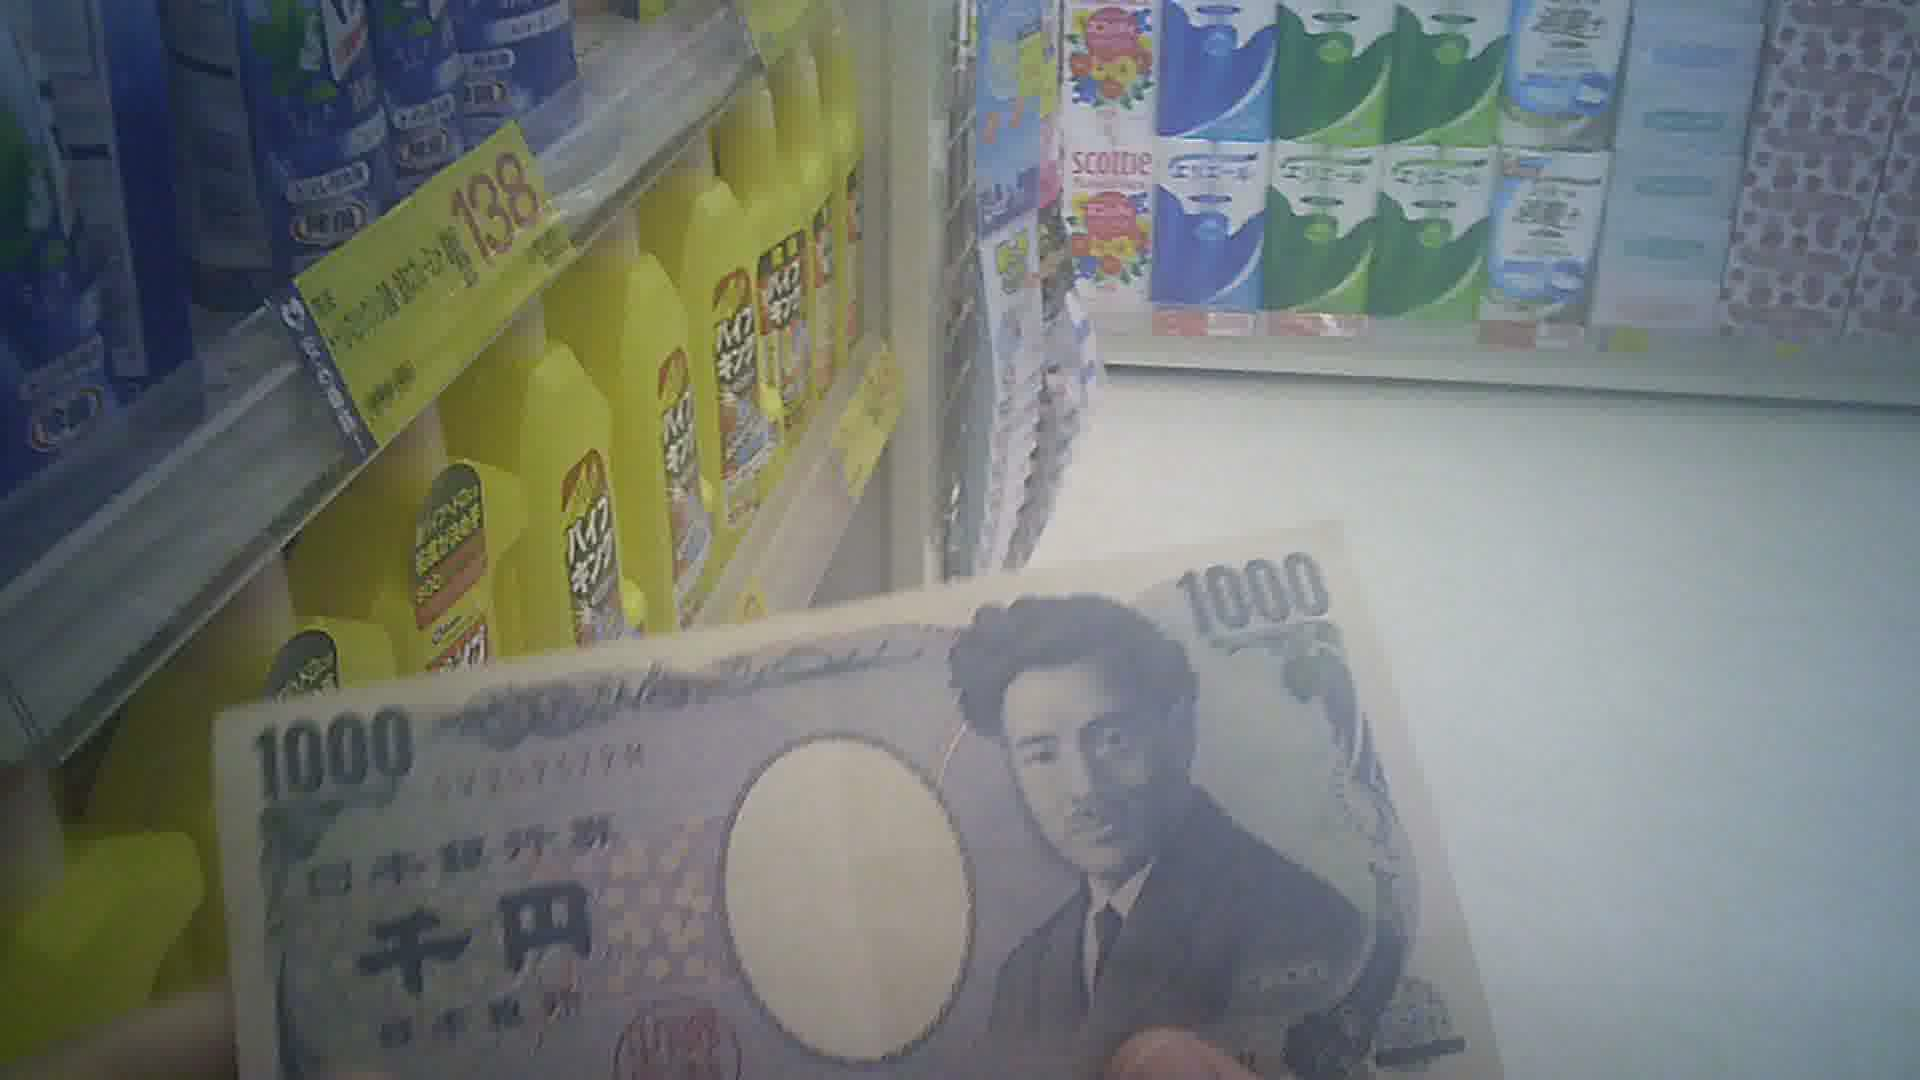1,000 Yen: (215, 535, 1534, 1079)
